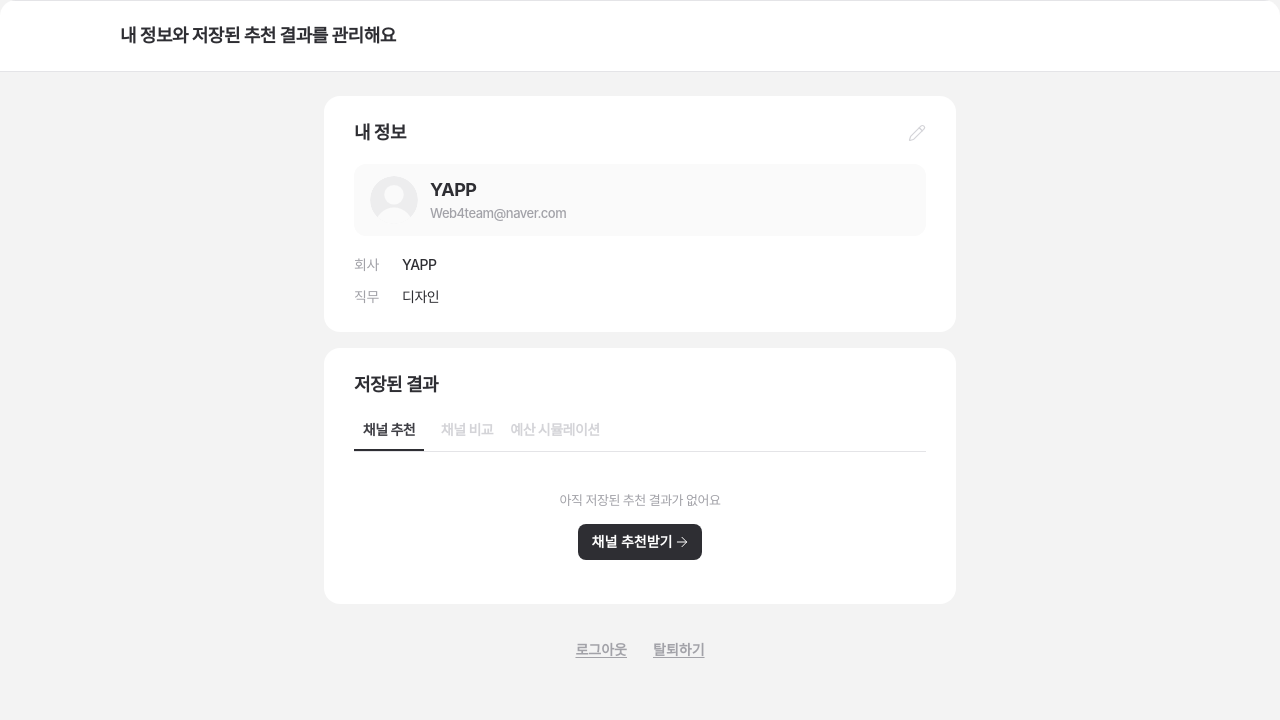
Scenario: MyPage › renders saved comparison and simulation results in their tabs
Click the tab "채널 비교". click: (467,430)
box: [432,408,502,452]
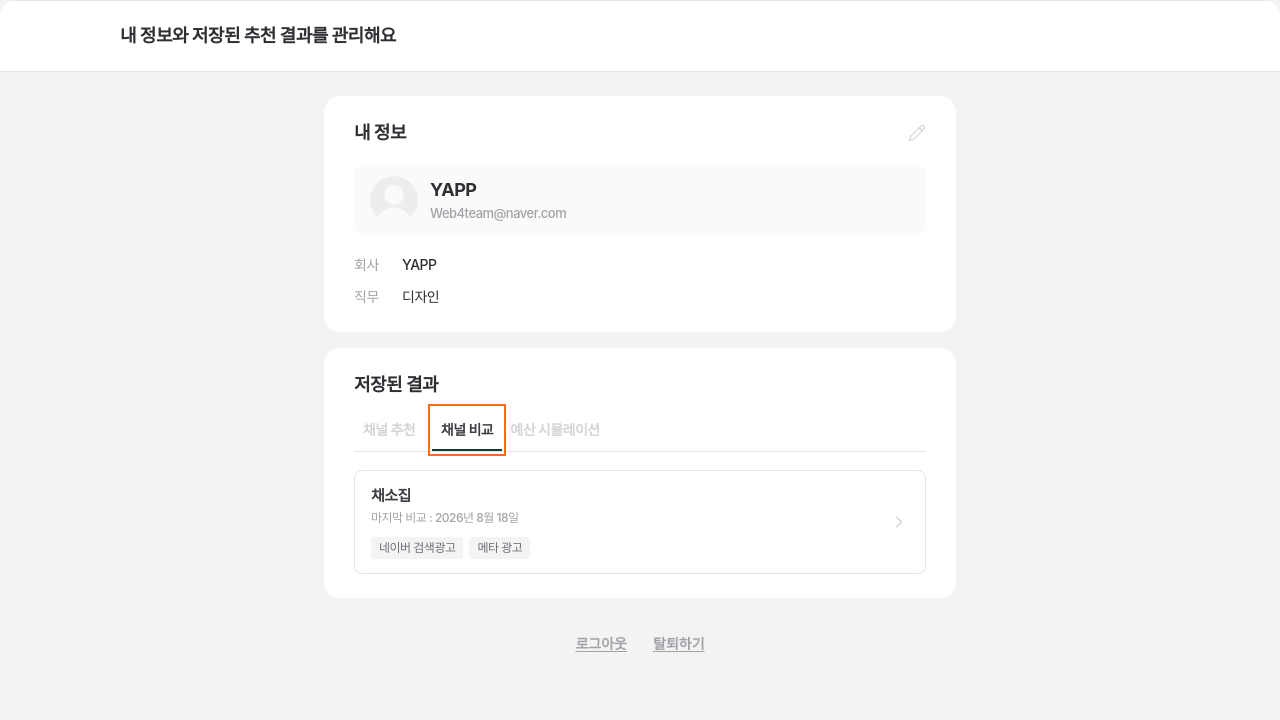
Check: the heading "채소집" is shown, box [371,486,411,505]
Check: the text "마지막 비교 : 2026년 8월 18일" is shown, box [371,510,519,525]
Check: the text "네이버 검색광고" is shown, box [379,539,456,557]
Click the tab "예산 시뮬레이션". click: (555,430)
box: [510,408,600,452]
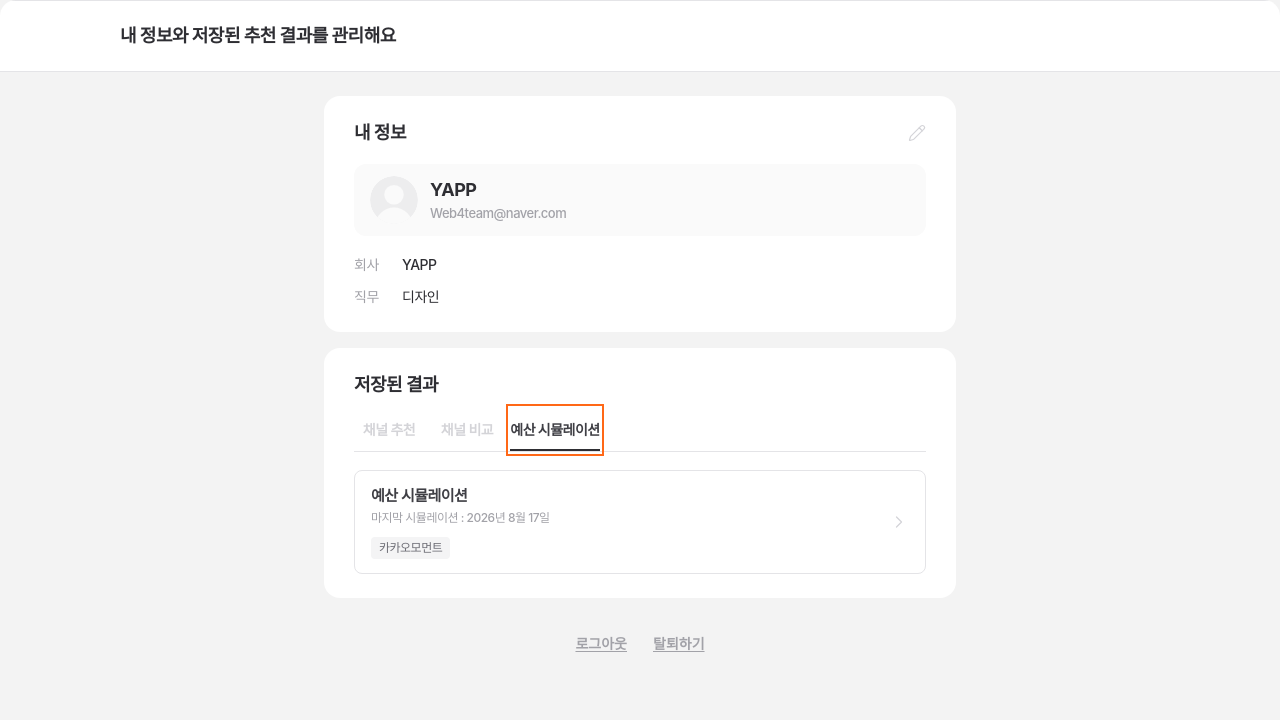
Check: the heading "예산 시뮬레이션" is shown, box [371,486,467,505]
Check: the text "마지막 시뮬레이션 : 2026년 8월 17일" is shown, box [371,510,550,525]
Check: the text "카카오모먼트" is shown, box [379,539,442,557]
